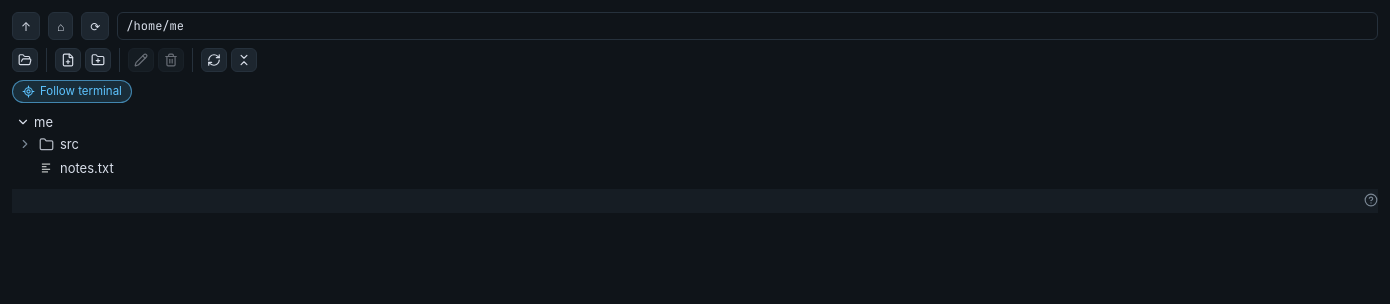
LocalPanel tree › collapses every open folder and lists everything again from the DEV toolbar, as VS Code's Explorer
Click the text "src". click: (70, 144)
box: [60,136,79,152]
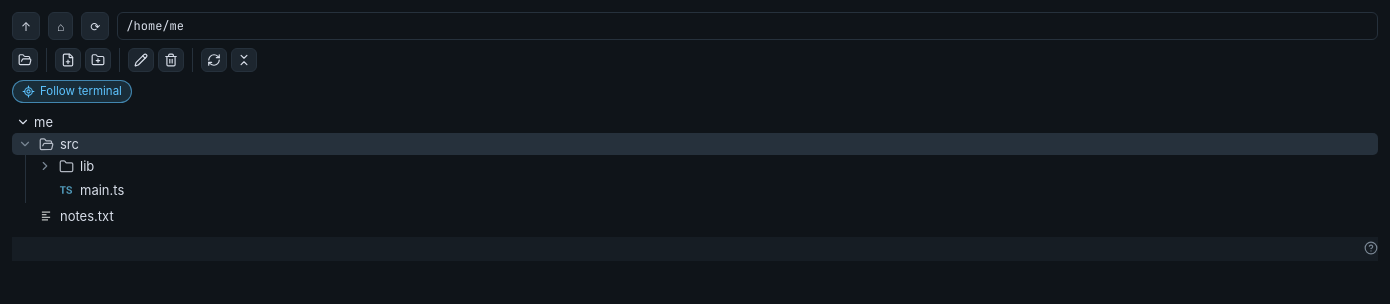
Click the text "lib". click: (87, 166)
box: [80,158,94,174]
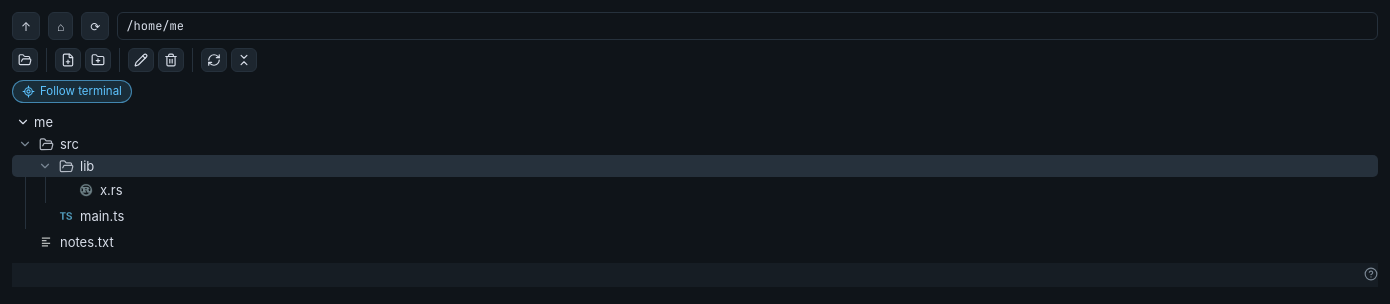
expect the text "x.rs" is shown: met, box [100,182,123,198]
Click the button named "Refresh Explorer". click: (214, 60)
box: [201,48,227,72]
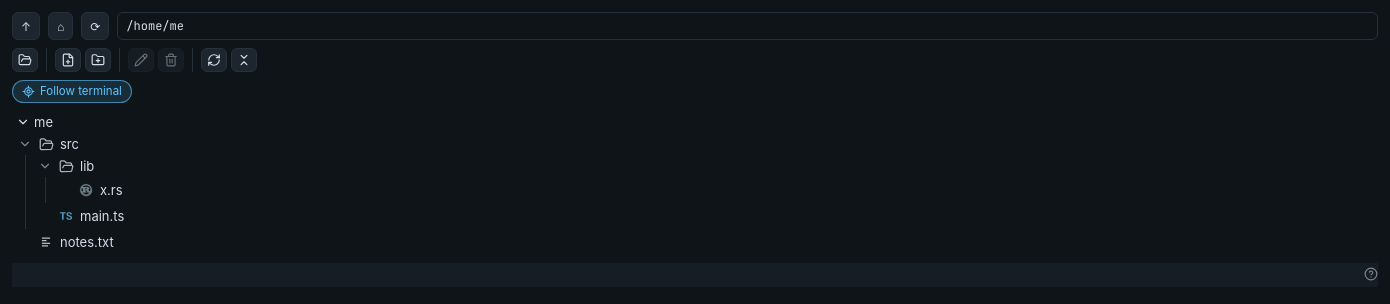
expect the text "x.rs" is shown: met, box [100,182,123,198]
Click the button named "Collapse Folders in Explorer". click: (244, 60)
box: [231,48,257,72]
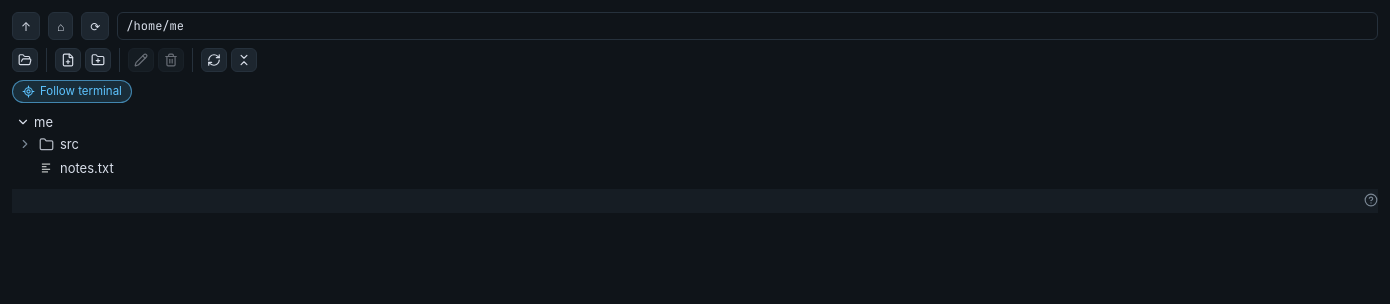
expect the text "main.ts" is gone: met
expect the text "x.rs" is gone: met
expect the list item "src" is collapsed: met, box [18,136,79,152]
